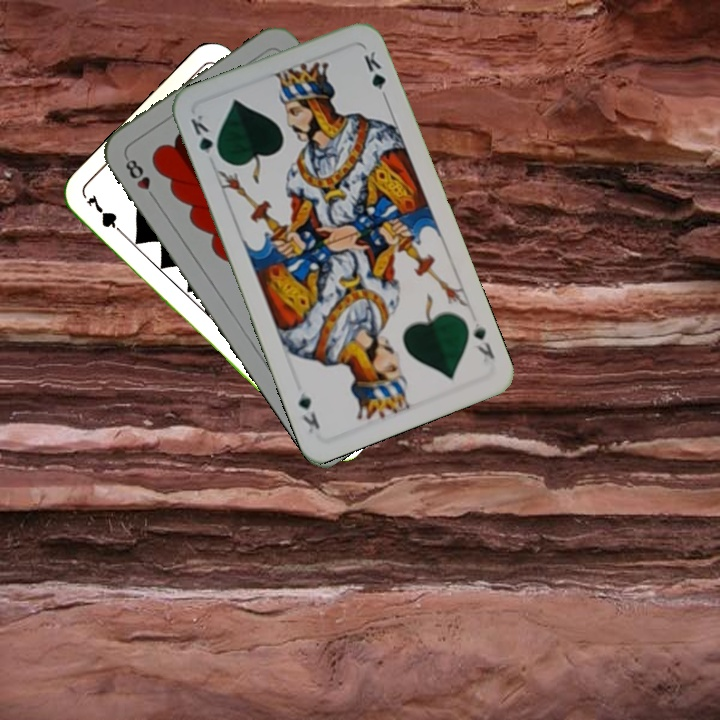G7: (82, 190, 129, 241)
GK: (186, 110, 224, 163), (469, 318, 498, 362)
H8: (121, 153, 160, 204)
